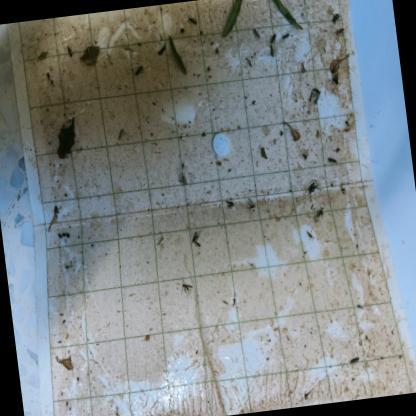prays_oleae: (304, 173, 320, 196), (311, 205, 326, 229), (187, 228, 203, 248), (330, 24, 346, 44), (63, 42, 76, 64), (180, 276, 194, 295), (246, 194, 258, 216), (132, 62, 146, 80), (328, 8, 342, 26), (116, 125, 128, 144), (327, 150, 338, 170), (222, 196, 236, 210)
